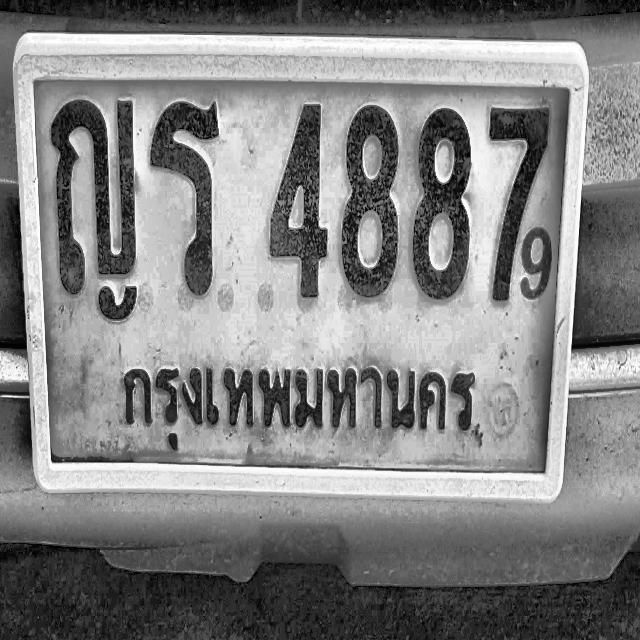license-plate: (4, 22, 601, 531)
